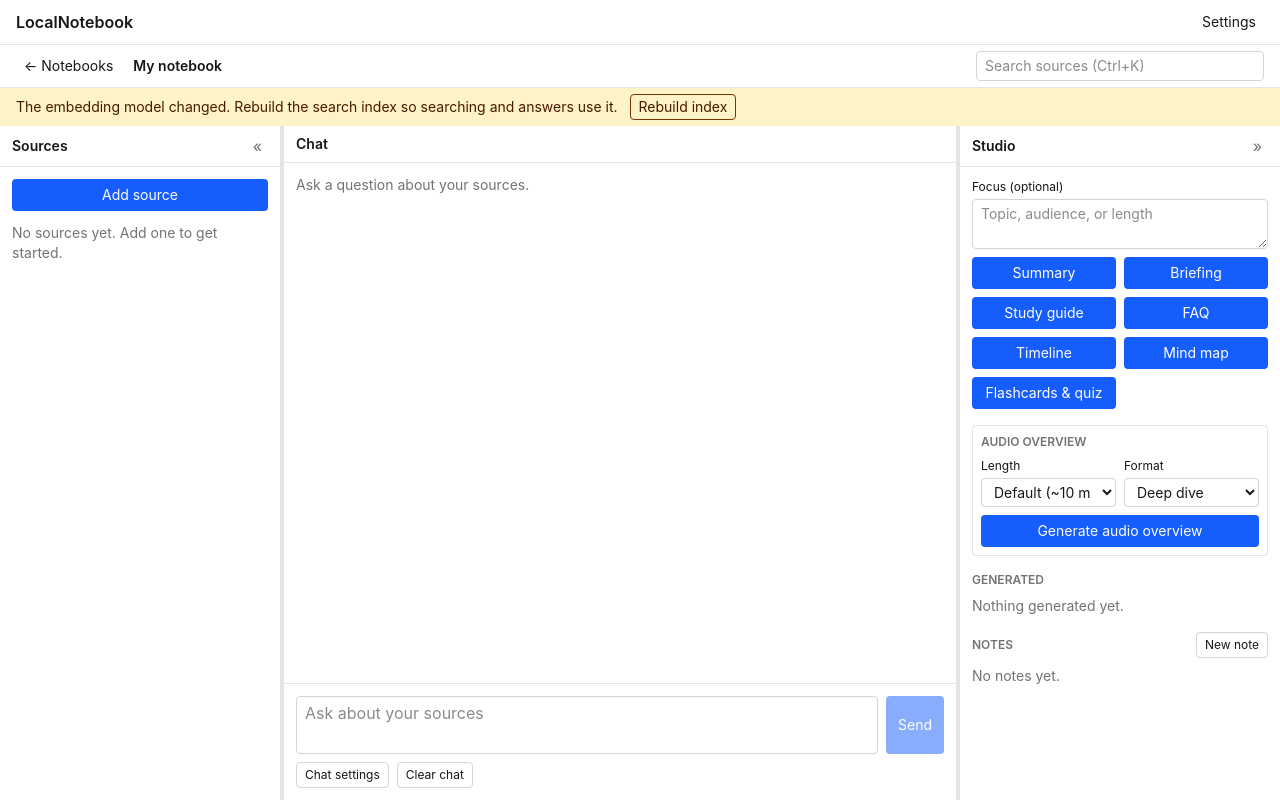
Test case: export, import and index rebuild (FR-1.3, FR-8.5) › shows the same offer inside the notebook
Click the button "Rebuild index". click: (683, 107)
box: [630,94,736,120]
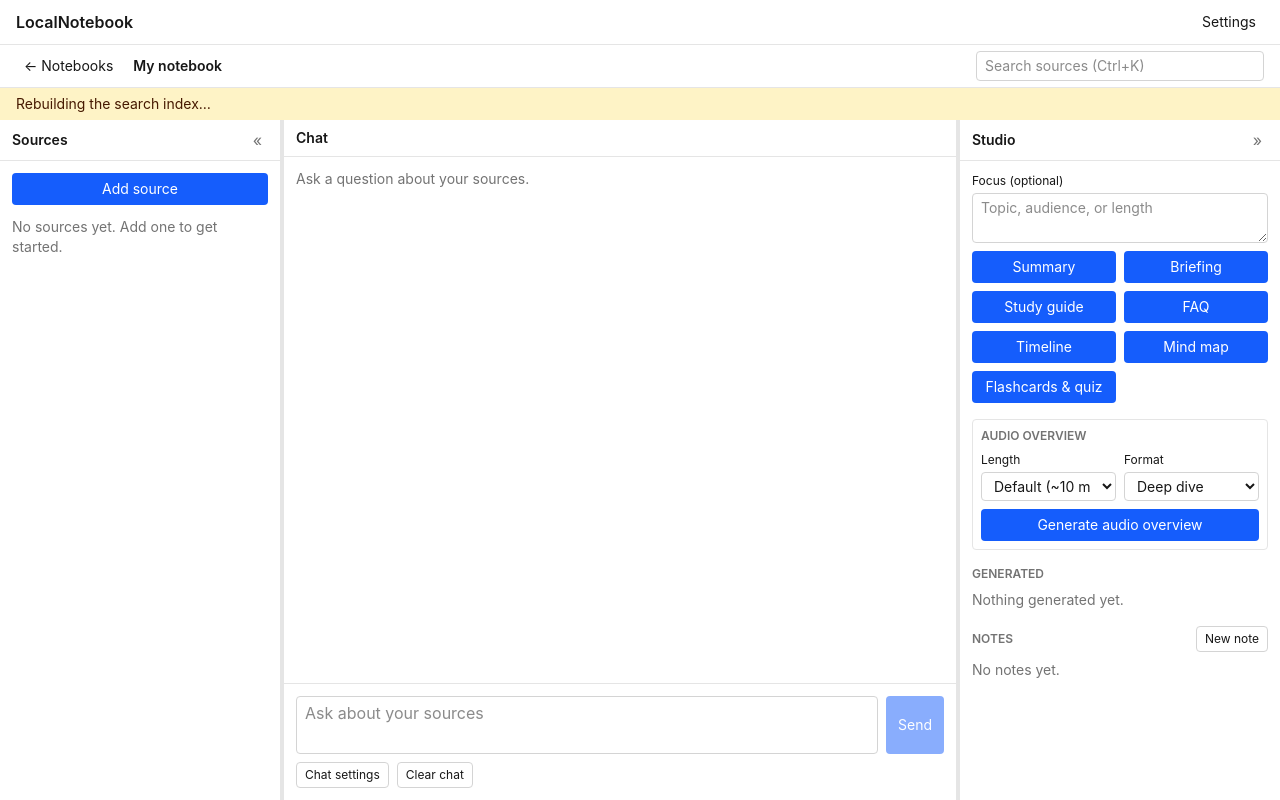
Check: the text "Rebuilding the search index…" is shown, box [16,94,211,114]
